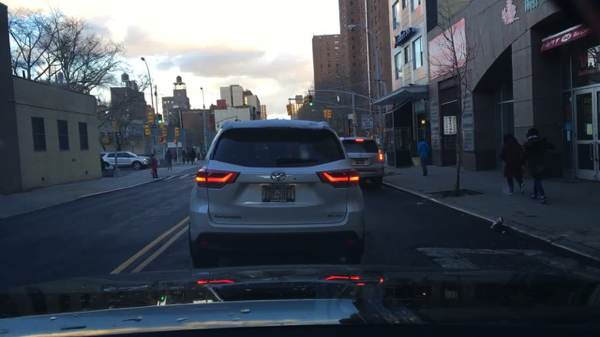car: (186, 118, 368, 266), (339, 136, 385, 191), (101, 150, 149, 170)
person: (523, 128, 553, 204), (499, 133, 524, 197), (415, 138, 433, 175), (148, 154, 161, 178), (163, 149, 176, 171), (191, 149, 197, 165), (185, 150, 191, 165), (181, 149, 185, 163)
traffic light: (286, 104, 293, 117), (102, 136, 111, 145), (147, 112, 153, 125), (308, 95, 314, 107), (145, 125, 151, 136), (174, 126, 180, 137), (158, 113, 163, 125), (303, 94, 308, 106), (113, 120, 118, 131), (163, 126, 168, 136), (157, 136, 164, 143), (327, 110, 332, 119), (323, 108, 327, 119)
traffic sign: (361, 113, 373, 128), (371, 109, 386, 115), (347, 112, 355, 120), (295, 96, 303, 104), (108, 132, 119, 137), (349, 123, 359, 128), (202, 133, 211, 137)
